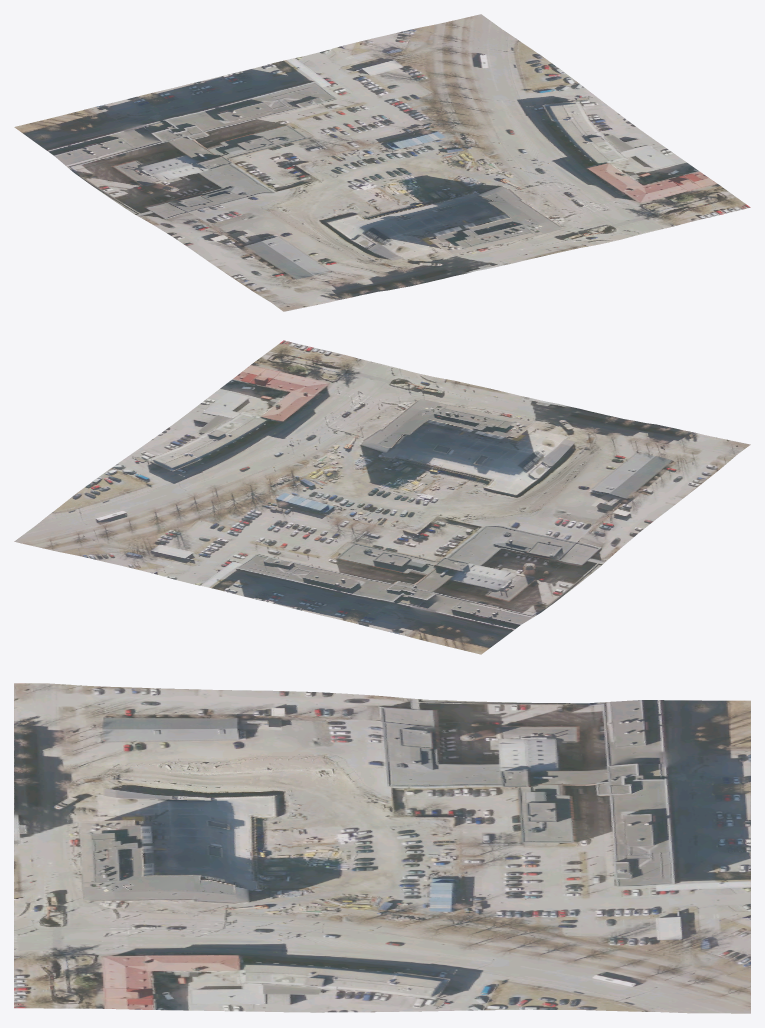
Rendered from CM_Terrain_24487182_6819384.fbx.
The picture shows the model from 3 angles, top to bottom: view 1: azimuth 30°, elevation 25°; view 2: azimuth 150°, elevation 25°; view 3: azimuth 270°, elevation 25°; orthographic projection. The views are drawn at different scales.
Parts seen in each view (by area): view 1: CM_Terrain_24487182_6819384_LOD0; view 2: CM_Terrain_24487182_6819384_LOD0; view 3: CM_Terrain_24487182_6819384_LOD0.
Boxes of the visible parts, x1,y1,x2,y2 form: CM_Terrain_24487182_6819384_LOD0: (14, 14, 750, 311); CM_Terrain_24487182_6819384_LOD0: (14, 340, 750, 654); CM_Terrain_24487182_6819384_LOD0: (14, 683, 750, 1013).
Size of what is drawn, in the model's own units: 205 by 6.67 by 205.
